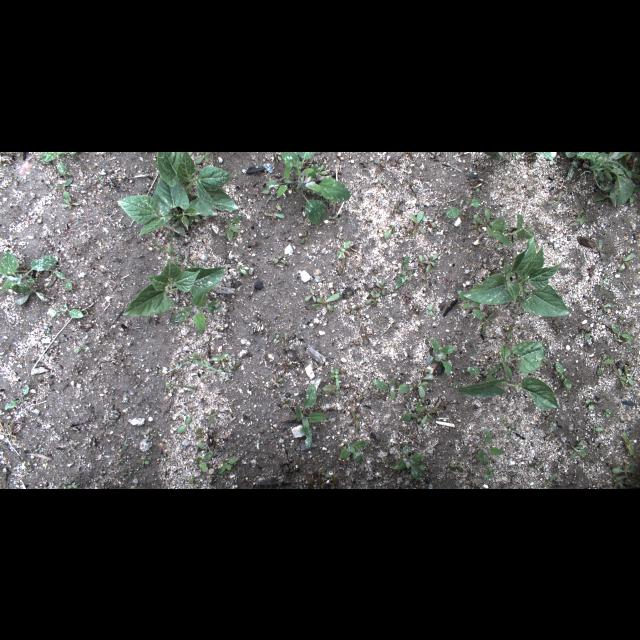crop: (114, 152, 236, 236), (454, 235, 570, 318), (454, 336, 560, 420), (122, 251, 228, 335), (261, 151, 351, 225)
weed: (565, 153, 639, 205), (1, 251, 62, 305), (294, 384, 326, 446), (471, 208, 513, 246), (162, 356, 232, 376), (478, 423, 508, 463), (38, 152, 84, 176), (391, 452, 427, 482), (45, 293, 85, 319), (400, 401, 440, 425), (430, 338, 456, 374), (444, 196, 481, 218), (373, 378, 409, 400), (456, 290, 482, 320), (512, 211, 538, 237), (5, 384, 31, 410), (339, 441, 369, 463), (397, 253, 415, 289), (310, 292, 340, 312), (320, 368, 340, 397), (610, 323, 632, 349), (54, 176, 74, 204), (225, 213, 243, 240), (556, 362, 570, 391), (406, 210, 426, 230), (417, 250, 437, 270), (570, 439, 588, 461), (611, 460, 639, 474), (622, 430, 636, 456), (196, 450, 214, 470), (596, 354, 614, 374), (336, 236, 354, 256), (362, 287, 382, 305), (52, 270, 72, 288), (210, 353, 228, 371), (218, 458, 238, 474), (595, 300, 613, 316), (618, 254, 634, 272), (304, 285, 320, 303), (618, 366, 632, 386), (261, 208, 287, 218), (412, 382, 428, 398), (374, 175, 392, 189), (195, 426, 205, 449), (177, 418, 191, 434), (594, 240, 604, 260), (424, 366, 438, 380), (272, 252, 288, 264), (576, 206, 588, 222), (590, 424, 606, 434), (384, 223, 394, 239), (75, 340, 87, 352), (484, 466, 494, 480), (372, 157, 386, 167), (236, 263, 247, 275), (208, 408, 216, 424), (602, 407, 612, 419), (586, 398, 594, 410), (428, 306, 436, 314), (584, 331, 590, 341), (274, 333, 280, 342)
